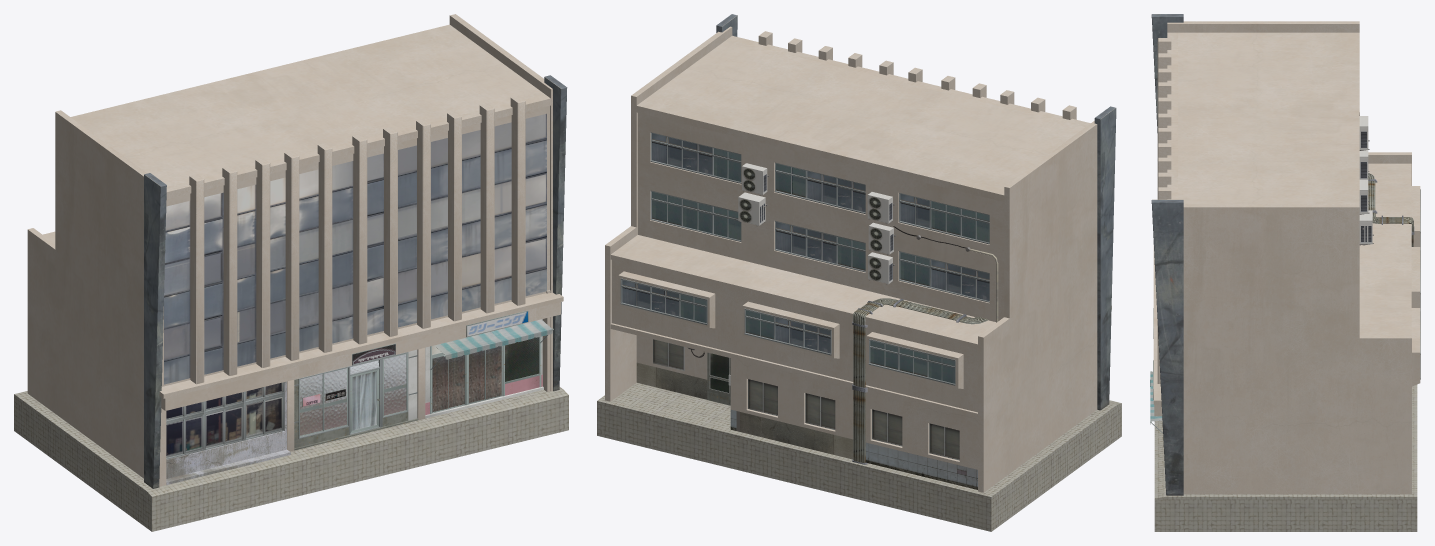
Rendered from building_large_1.fbx.
3 views of the same model, side by side, from view 1: azimuth 30°, elevation 25°; view 2: azimuth 150°, elevation 25°; view 3: azimuth 270°, elevation 25° (orthographic). The views are drawn at different scales.
Parts seen in each view (by area): view 1: building_large_1; view 2: building_large_1; view 3: building_large_1.
Boxes of the visible parts, x1=… form: building_large_1: x1=14, y1=14, x2=568, y2=531; building_large_1: x1=597, y1=14, x2=1121, y2=531; building_large_1: x1=1150, y1=14, x2=1420, y2=531.
Bounding box in the file's own units: 1811 × 1071 × 1430.
8 materials, 8 textured.
